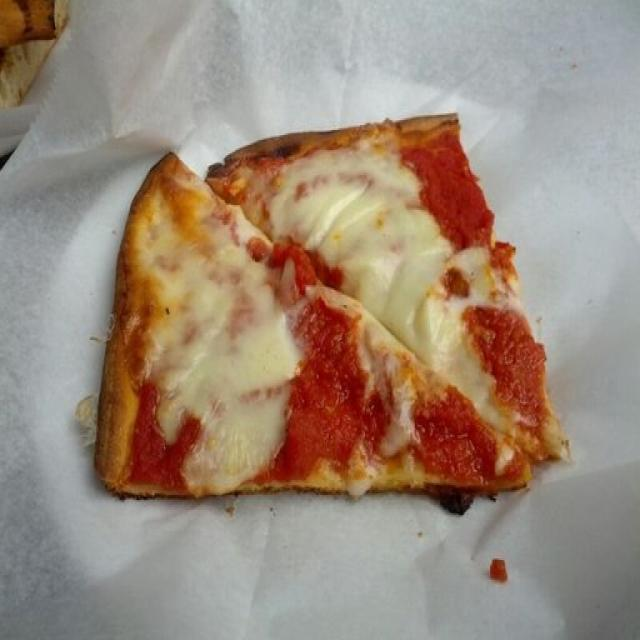Pizza: (91, 113, 570, 502)
